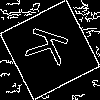K: (25, 25, 79, 71)
